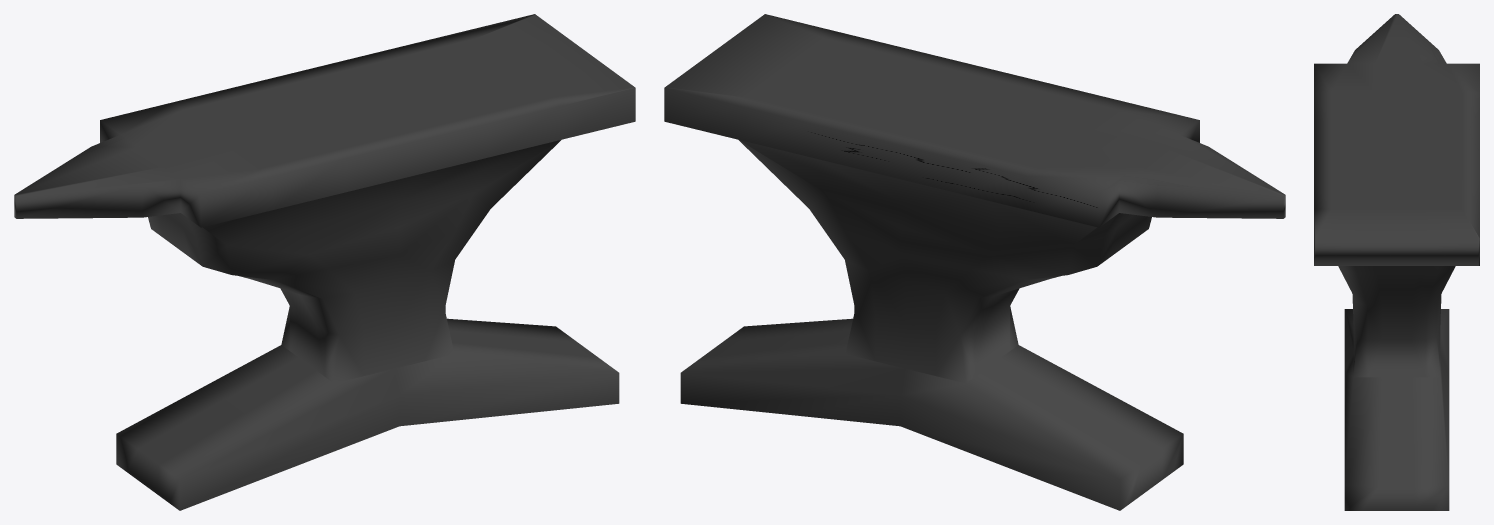
Rendered from Anvilbeta.fbx.
The picture shows the model from 3 angles, left to right: view 1: azimuth 30°, elevation 25°; view 2: azimuth 150°, elevation 25°; view 3: azimuth 270°, elevation 25°; orthographic projection. The views are drawn at different scales.
Visible parts, largest first — view 1: pCube2; view 2: pCube2; view 3: pCube2.
Boxes of the visible parts, bbox=[...] form: pCube2: bbox=[14, 14, 635, 510]; pCube2: bbox=[664, 14, 1285, 510]; pCube2: bbox=[1314, 14, 1479, 510].
Size of the model in its own units: 79.97 by 44.09 by 24.4.
Materials: 1 (1 with a texture image).
